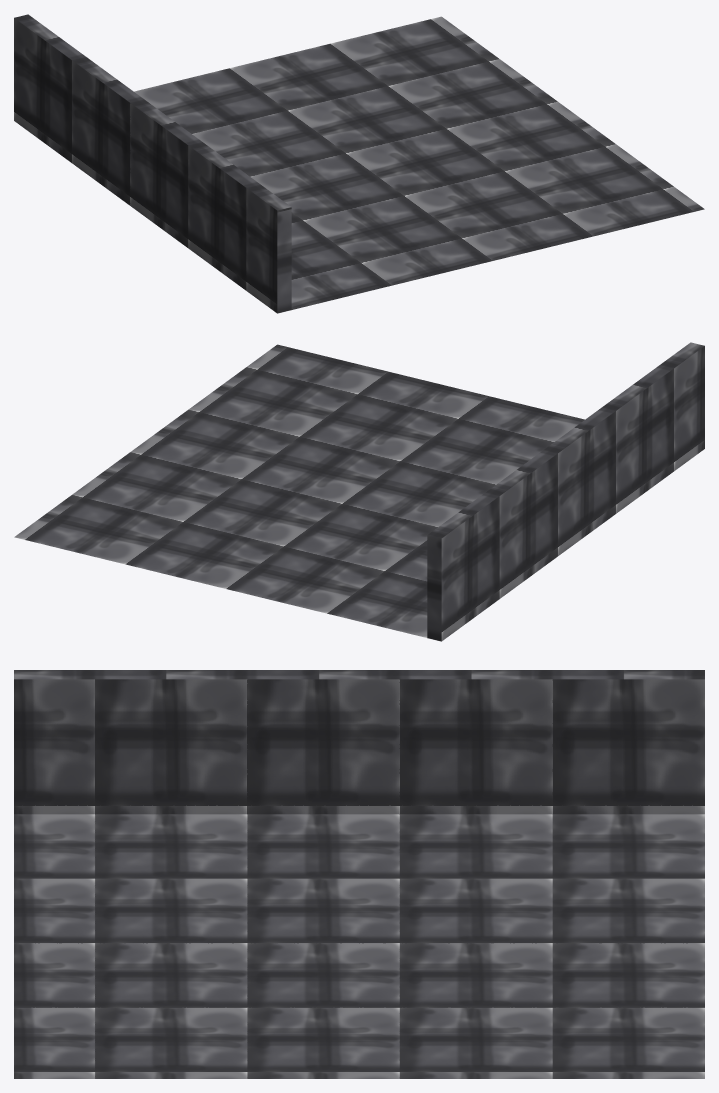
Rendered from terrain.gltf.
The picture shows the model from 3 angles, top to bottom: view 1: azimuth 30°, elevation 25°; view 2: azimuth 150°, elevation 25°; view 3: azimuth 270°, elevation 25°; orthographic projection. The views are drawn at different scales.
Visible parts, largest first — view 1: Plane; view 2: Plane; view 3: Plane.
Part boxes in pixels (left/top/right/bottom): Plane: left=14, top=14, right=704, bottom=313; Plane: left=14, top=342, right=704, bottom=641; Plane: left=14, top=670, right=704, bottom=1078.
Bounding box in the file's own units: 55.38 × 12.74 × 59.07.
Materials: 1 (1 with a texture image).
